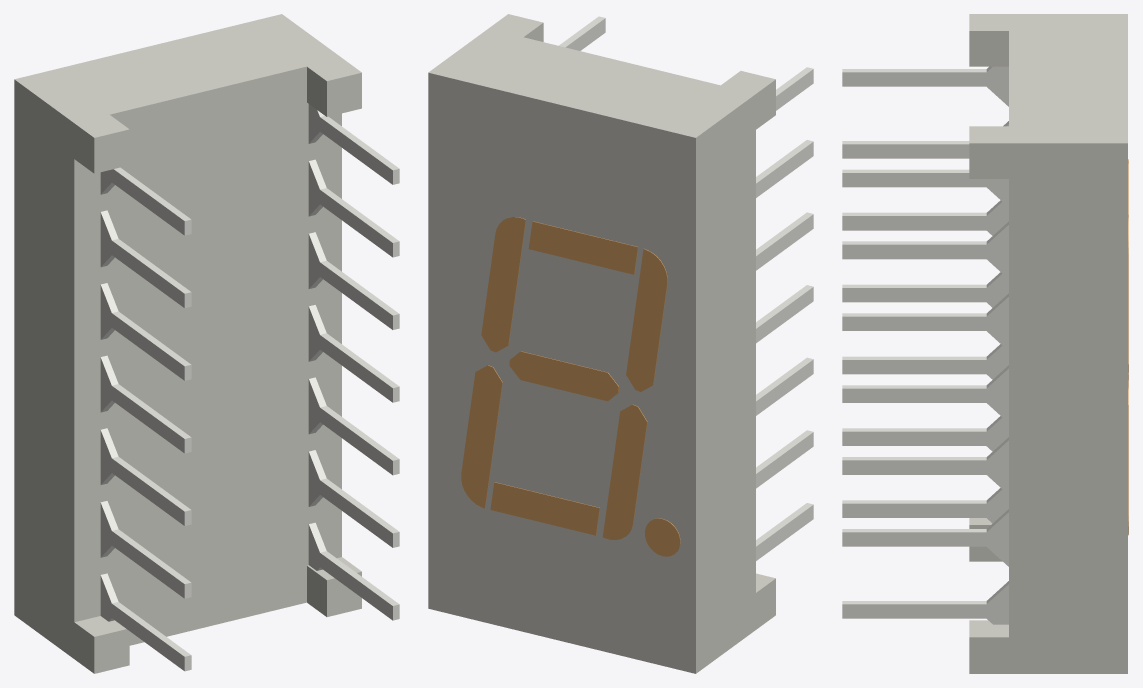
File: MAN3610A.glb
The picture shows the model from 3 angles, left to right: view 1: azimuth 30°, elevation 25°; view 2: azimuth 150°, elevation 25°; view 3: azimuth 270°, elevation 25°; orthographic projection.
Parts seen in each view (by area): view 1: Shape_IndexedFaceSet.010, Shape_IndexedFaceSet.006, Shape_IndexedFaceSet, Shape_IndexedFaceSet.012, Shape_IndexedFaceSet.065, Shape_IndexedFaceSet.003, Shape_IndexedFaceSet.069, Shape_IndexedFaceSet.014, Shape_IndexedFaceSet.005, Shape_IndexedFaceSet.001, Shape_IndexedFaceSet.194, Shape_IndexedFaceSet.213 (+16 smaller); view 2: Shape_IndexedFaceSet.007, Shape_IndexedFaceSet.006, Shape_IndexedFaceSet, Shape_IndexedFaceSet.128, Shape_IndexedFaceSet.130, Shape_IndexedFaceSet.135, Shape_IndexedFaceSet.132, Shape_IndexedFaceSet.129, Shape_IndexedFaceSet.134, Shape_IndexedFaceSet.131, Shape_IndexedFaceSet.133, Shape_IndexedFaceSet.211 (+6 smaller); view 3: Shape_IndexedFaceSet.008, Shape_IndexedFaceSet, Shape_IndexedFaceSet.227, Shape_IndexedFaceSet.231, Shape_IndexedFaceSet.196, Shape_IndexedFaceSet.199, Shape_IndexedFaceSet.240, Shape_IndexedFaceSet.203, Shape_IndexedFaceSet.207, Shape_IndexedFaceSet.209, Shape_IndexedFaceSet.243, Shape_IndexedFaceSet.191 (+21 smaller).
Boxes of the visible parts, x1,y1,x2,y2 form: Shape_IndexedFaceSet.010: (109, 102, 306, 608); Shape_IndexedFaceSet.006: (14, 79, 94, 673); Shape_IndexedFaceSet: (15, 14, 361, 137); Shape_IndexedFaceSet.012: (74, 159, 109, 622); Shape_IndexedFaceSet.065: (307, 103, 341, 565); Shape_IndexedFaceSet.003: (110, 66, 306, 145); Shape_IndexedFaceSet.069: (129, 565, 306, 645); Shape_IndexedFaceSet.014: (94, 629, 129, 673); Shape_IndexedFaceSet.005: (94, 129, 129, 173); Shape_IndexedFaceSet.001: (327, 72, 361, 116); Shape_IndexedFaceSet.194: (112, 604, 184, 670); Shape_IndexedFaceSet.213: (112, 241, 184, 307); Shape_IndexedFaceSet.007: (428, 72, 695, 673); Shape_IndexedFaceSet.006: (696, 79, 775, 673); Shape_IndexedFaceSet: (428, 14, 775, 137); Shape_IndexedFaceSet.128: (626, 249, 667, 391); Shape_IndexedFaceSet.130: (481, 217, 525, 352); Shape_IndexedFaceSet.135: (461, 365, 502, 508); Shape_IndexedFaceSet.132: (602, 404, 646, 539); Shape_IndexedFaceSet.129: (528, 221, 637, 274); Shape_IndexedFaceSet.134: (490, 482, 599, 535); Shape_IndexedFaceSet.131: (509, 351, 618, 401); Shape_IndexedFaceSet.133: (645, 518, 679, 556); Shape_IndexedFaceSet.211: (756, 287, 813, 343); Shape_IndexedFaceSet.008: (969, 143, 1127, 673); Shape_IndexedFaceSet: (969, 14, 1127, 143); Shape_IndexedFaceSet.227: (842, 244, 986, 259); Shape_IndexedFaceSet.231: (842, 316, 986, 330); Shape_IndexedFaceSet.196: (842, 503, 985, 517); Shape_IndexedFaceSet.199: (842, 431, 986, 445); Shape_IndexedFaceSet.240: (842, 388, 985, 402); Shape_IndexedFaceSet.203: (842, 360, 985, 374); Shape_IndexedFaceSet.207: (842, 216, 986, 230); Shape_IndexedFaceSet.209: (842, 288, 986, 302); Shape_IndexedFaceSet.243: (842, 460, 986, 474); Shape_IndexedFaceSet.191: (842, 72, 986, 86).
Bounding box in the file's own units: 3.86 × 7.38 × 3.61.
